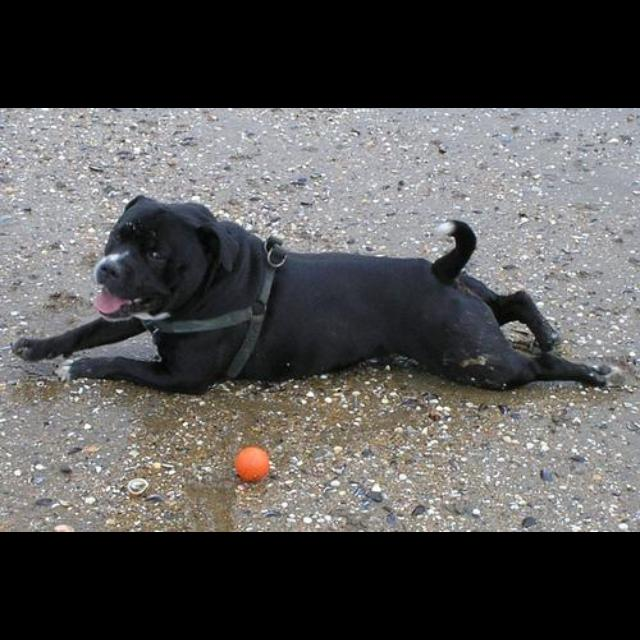staffford: (12, 195, 625, 395)
